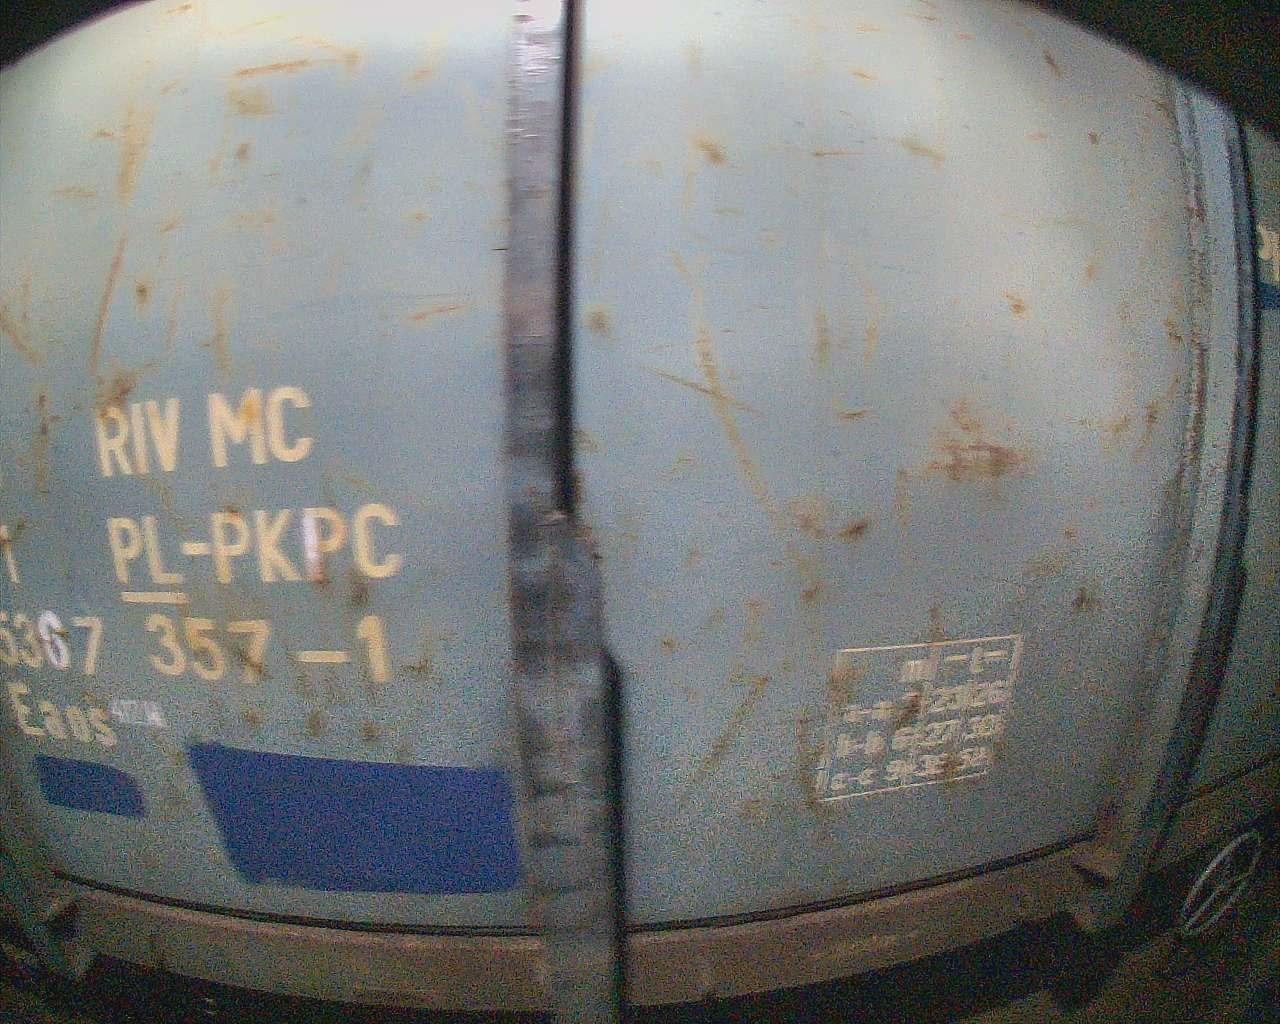UIC: (1, 377, 446, 755)
